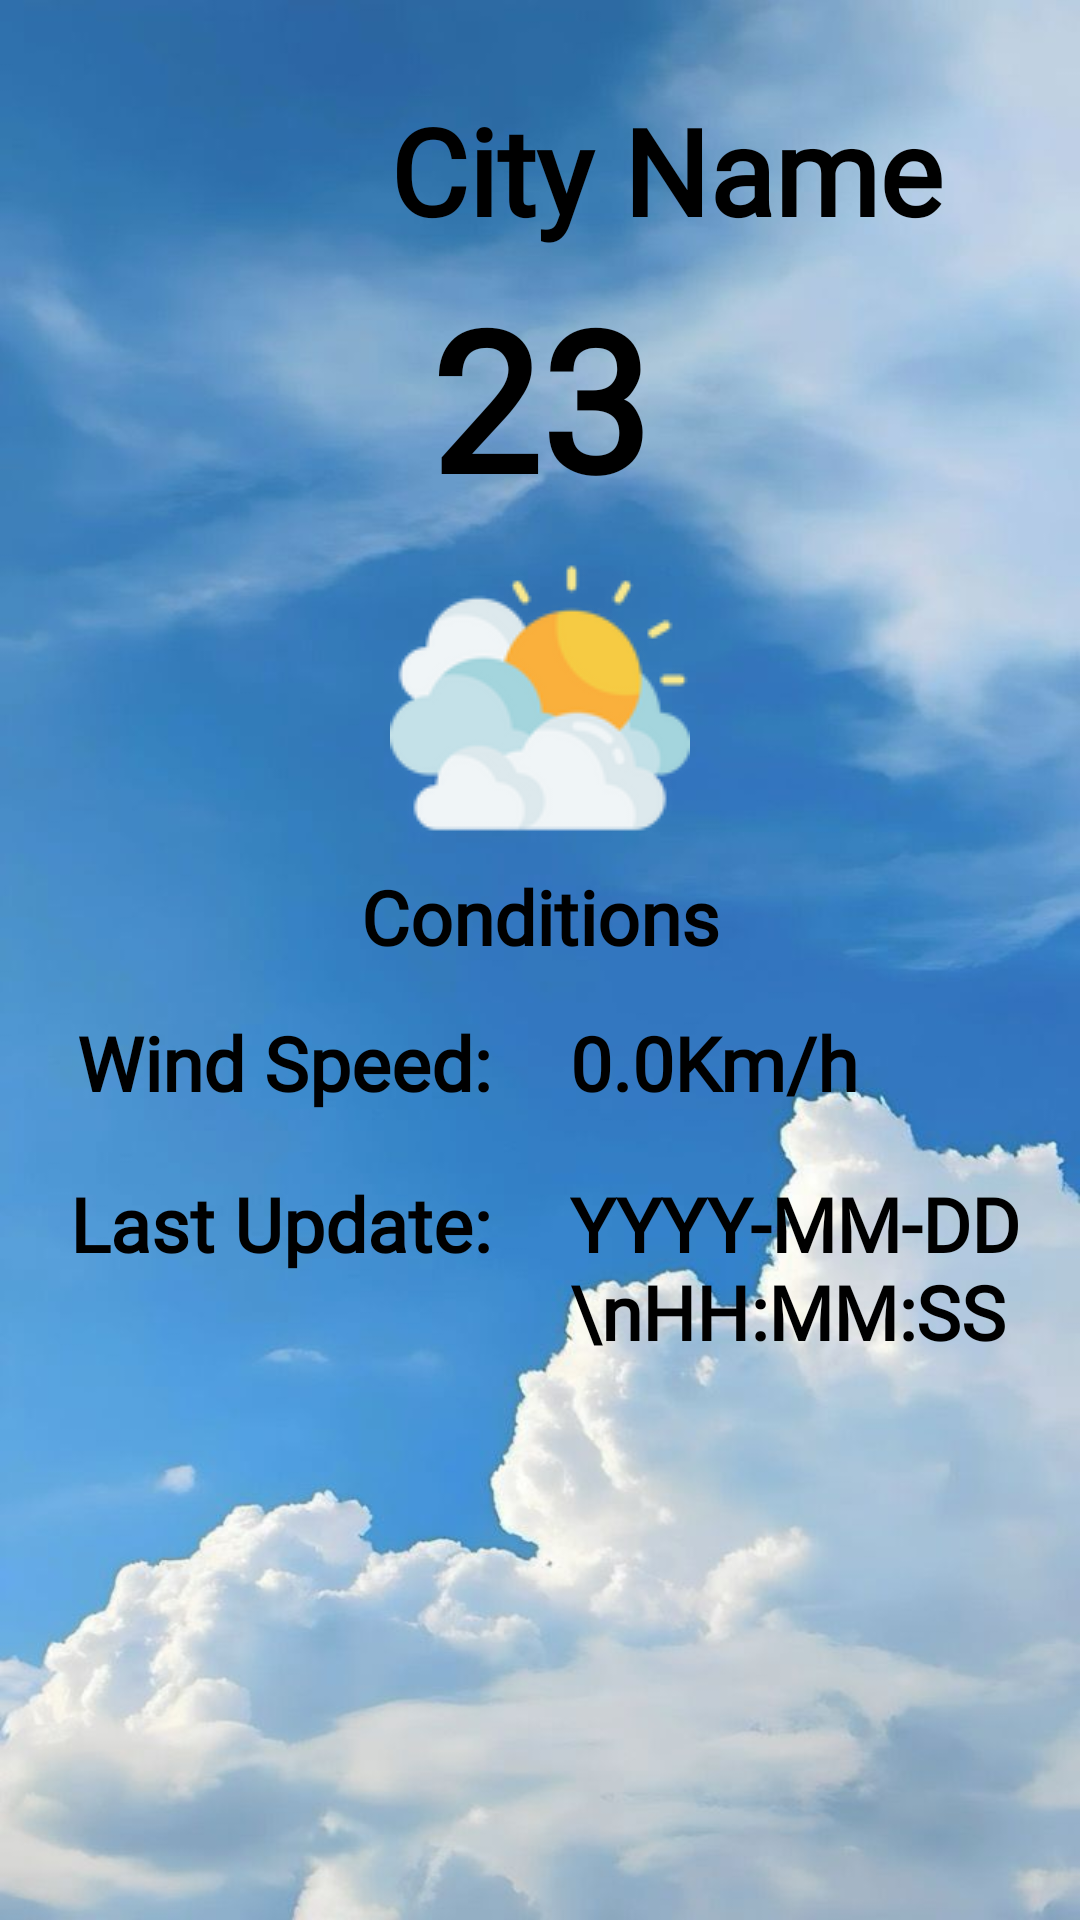

Named icons in this screenshot (1080w x 1920h) and their centers, point (x, y):
cloudy: point (540, 698)
